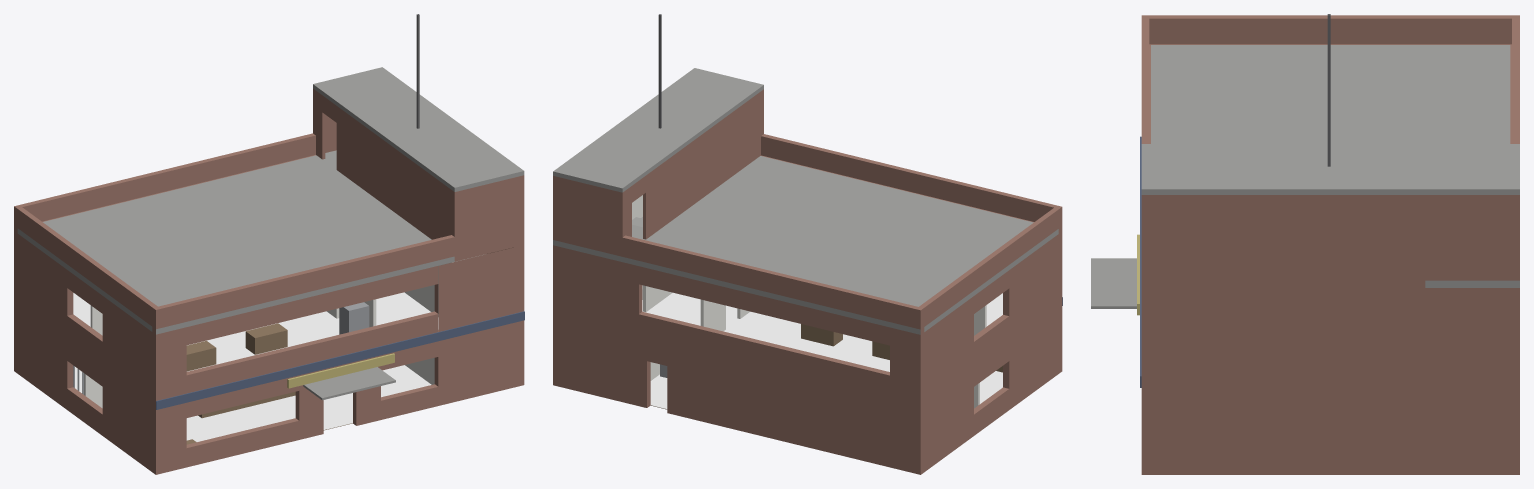
Rendered from police-station.windows-v1.lod0.glb.
3 renders of one model, left to right at view 1: azimuth 30°, elevation 25°; view 2: azimuth 150°, elevation 25°; view 3: azimuth 270°, elevation 25°, orthographic. The views are drawn at different scales.
Visible parts, largest first — view 1: police-station; view 2: police-station; view 3: police-station.
Boxes of the visible parts, <box> form: police-station: <box>14,14,524,474</box>; police-station: <box>553,14,1062,474</box>; police-station: <box>1091,14,1519,474</box>.
Bounding box in the file's own units: 18 × 15.31 × 13.6.
